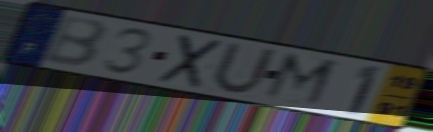1: (349, 64, 385, 117)
3: (101, 26, 154, 76)
B: (42, 15, 110, 70)
M: (259, 50, 342, 111)
U: (208, 40, 280, 97)
X: (154, 32, 227, 91)
